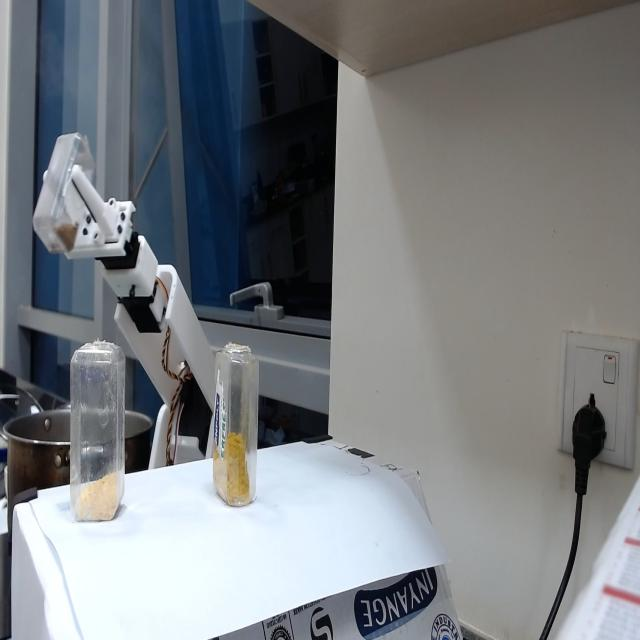cooking_pot: (5, 406, 70, 536)
curry_powder: (212, 432, 250, 504)
garlic_powder: (78, 469, 124, 522)
maggie_open: (33, 212, 80, 258)
